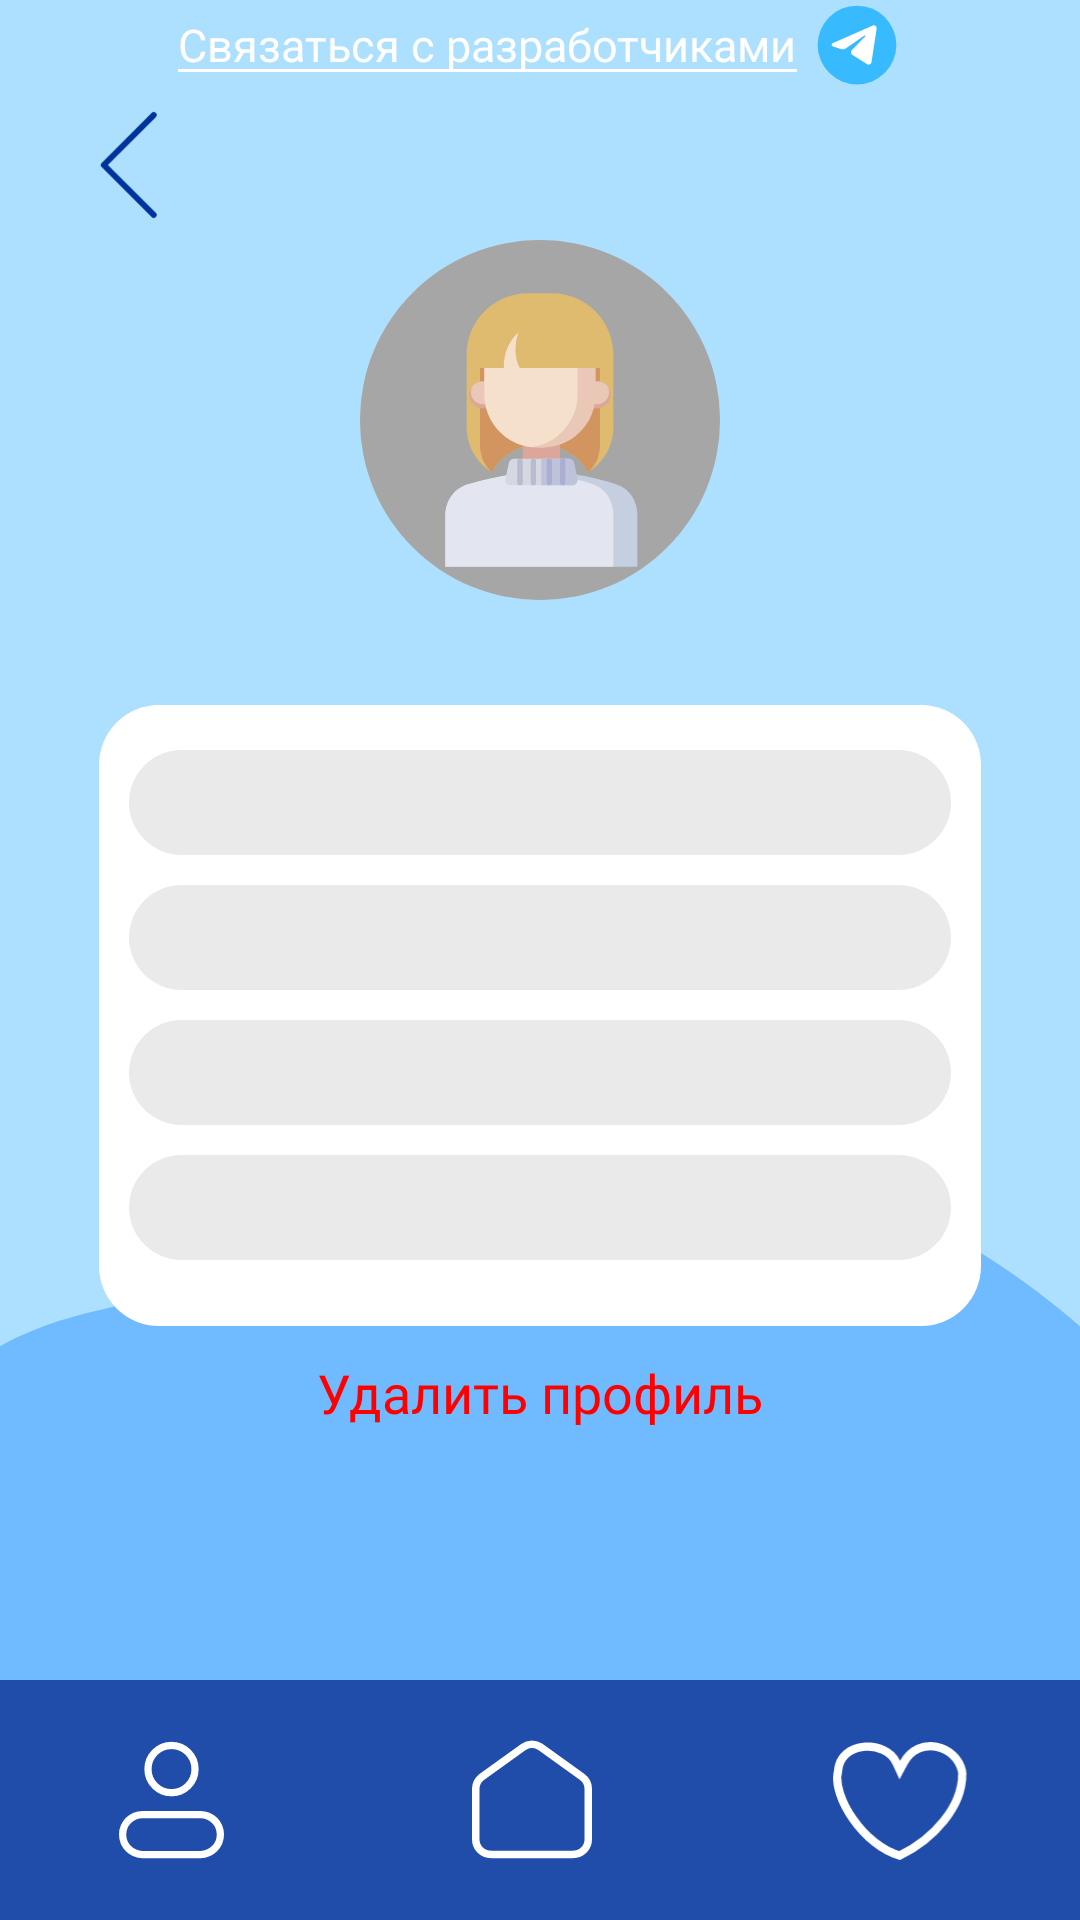

Named icons in this screenshot (1080 × 1920) and their bounding boxes, (x1, y1, x2, y2):
chevron left: (100, 111, 157, 219)
heart shape: (833, 1742, 967, 1860)
house shape: (472, 1740, 592, 1859)
profile shape: (119, 1741, 224, 1859)
